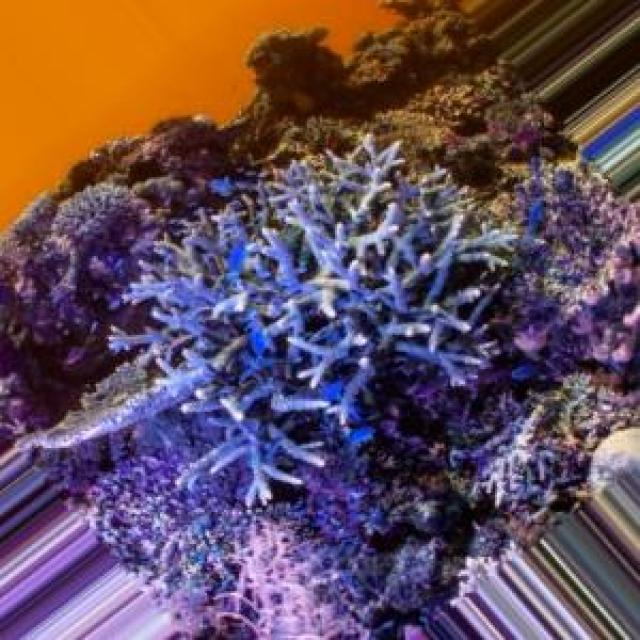Healthy: (1, 16, 640, 640), (223, 155, 511, 447), (204, 187, 411, 447), (33, 283, 255, 451), (244, 12, 504, 155), (1, 184, 155, 291), (52, 114, 221, 202)
